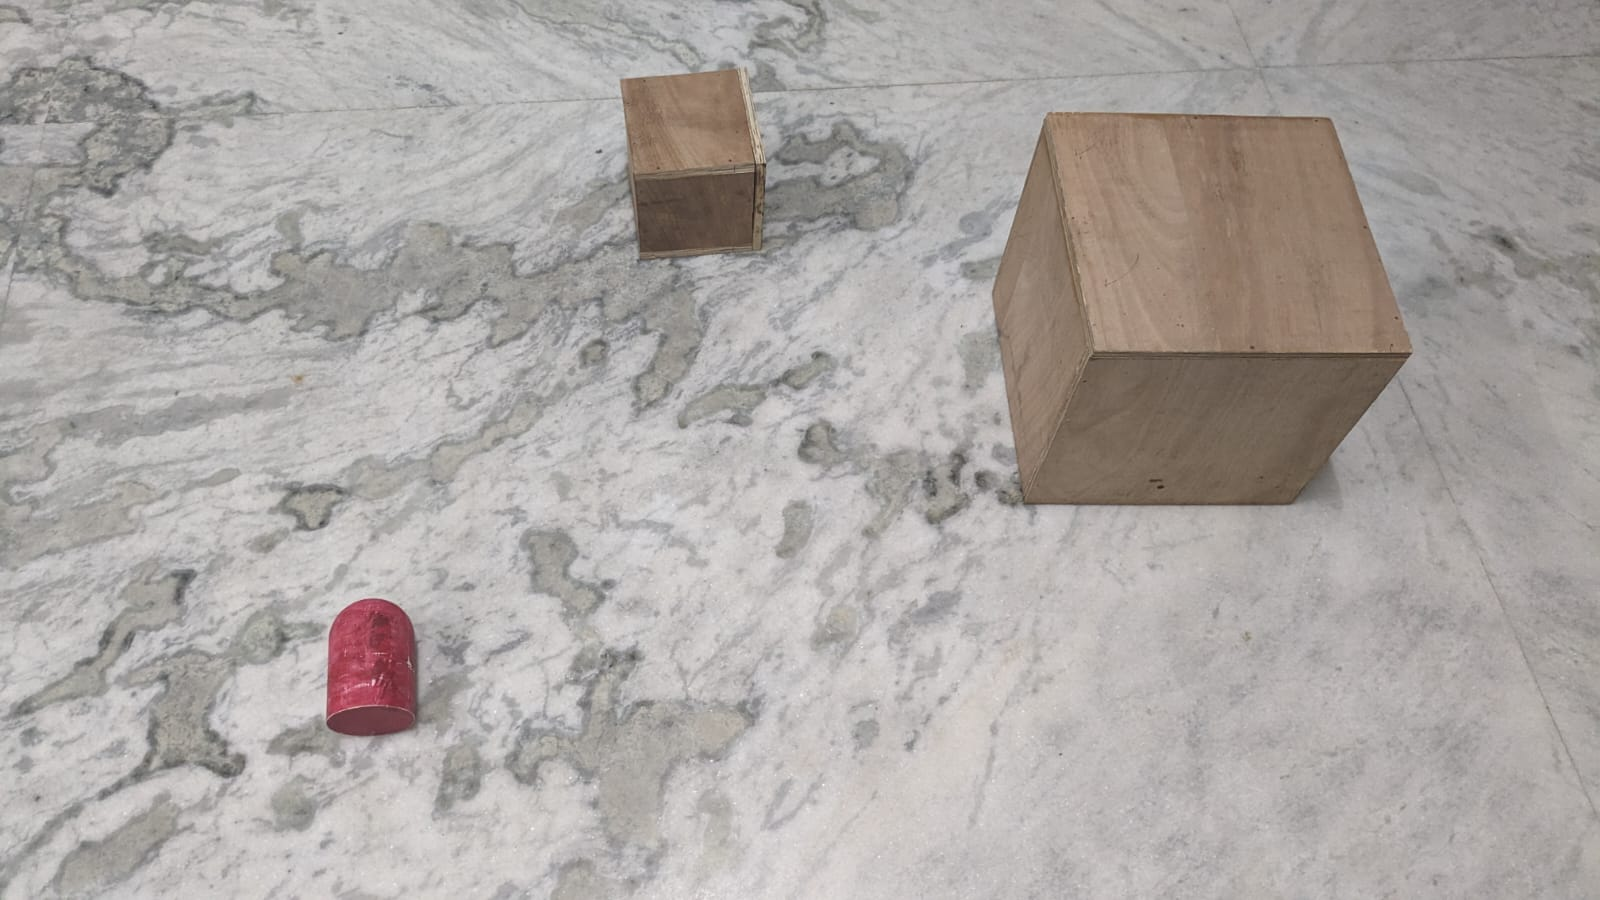150mm obstacle: (609, 62, 786, 268)
300mm obstacle: (969, 93, 1435, 531)
testtube: (295, 573, 458, 759)
